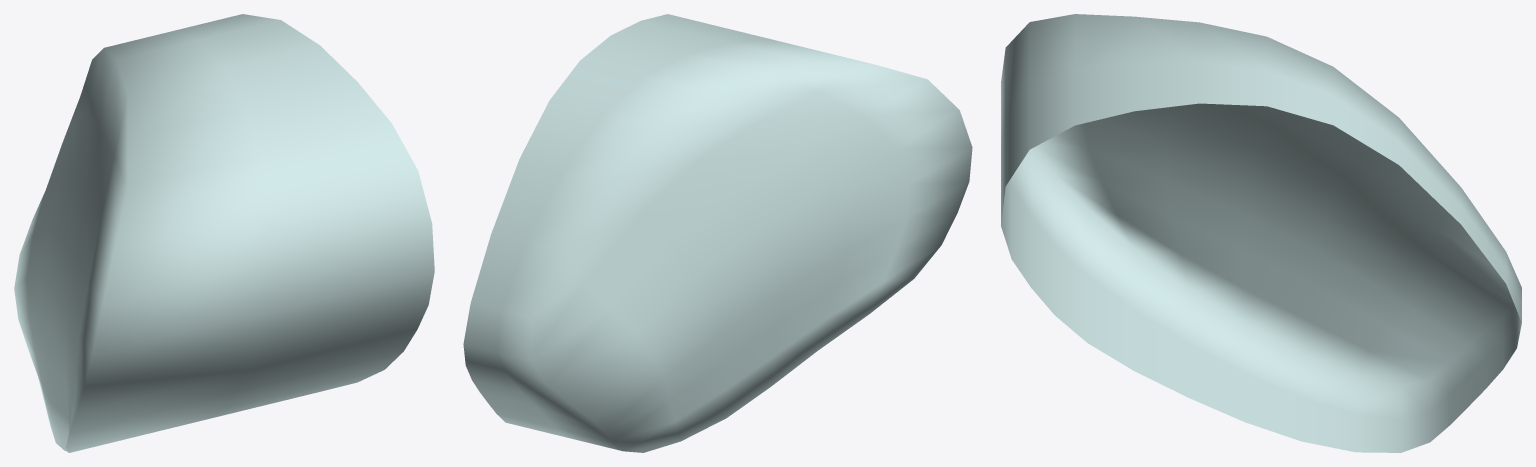
Rendered from Pubic_symphysis.r_Cube.039.glb.
The picture shows the model from 3 angles, left to right: view 1: azimuth 30°, elevation 25°; view 2: azimuth 150°, elevation 25°; view 3: azimuth 270°, elevation 25°; orthographic projection. The views are drawn at different scales.
Parts seen in each view (by area): view 1: Pubic_symphysis.r_Cube.039; view 2: Pubic_symphysis.r_Cube.039; view 3: Pubic_symphysis.r_Cube.039.
Part boxes in pixels (x1,y1,x2,y2): Pubic_symphysis.r_Cube.039: [14, 14, 434, 452]; Pubic_symphysis.r_Cube.039: [463, 14, 972, 452]; Pubic_symphysis.r_Cube.039: [1001, 14, 1521, 452].
Bounding box in the file's own units: 0.0172 × 0.0192 × 0.0259.
